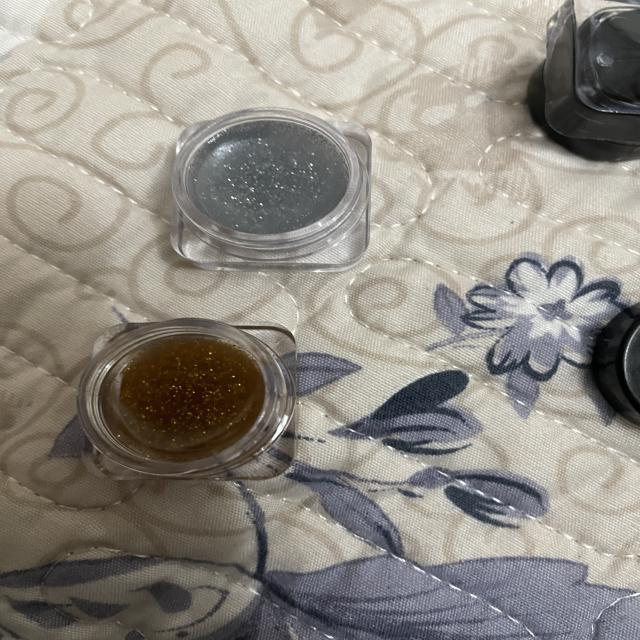eye shade: (54, 310, 315, 492), (155, 100, 394, 276), (521, 0, 639, 167)
